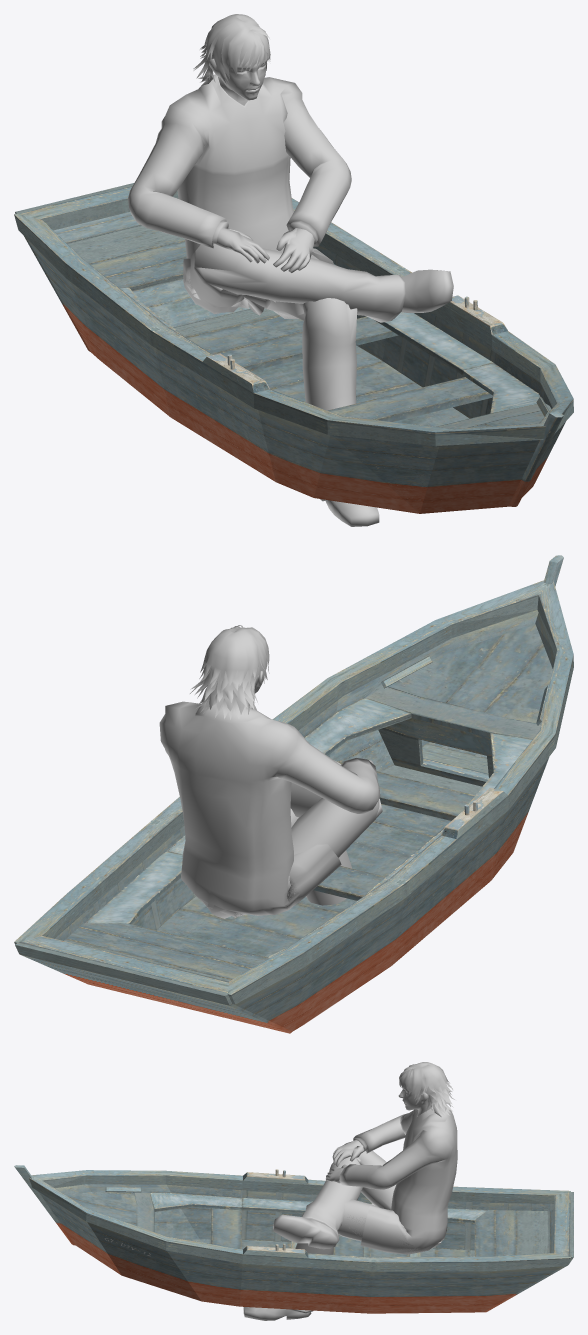
File: character.obj
3 renders of one model, top to bottom at view 1: azimuth 30°, elevation 25°; view 2: azimuth 150°, elevation 25°; view 3: azimuth 270°, elevation 25°, orthographic. The views are drawn at different scales.
Visible parts, largest first — view 1: boat, body; view 2: boat, body; view 3: boat, body.
Boxes of the visible parts, box(x1,y1,x2,y2) form: boat: box(14, 183, 573, 513); body: box(128, 14, 453, 526); boat: box(14, 555, 573, 1033); body: box(159, 625, 382, 918); boat: box(14, 1165, 573, 1313); body: box(243, 1062, 457, 1320).
Size of the model in its own units: 1.03 by 1.55 by 3.09.
